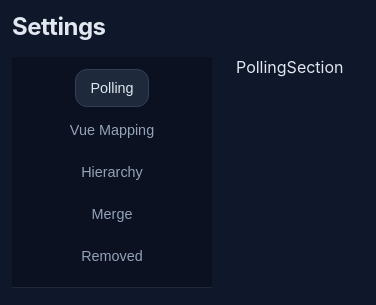
it: SettingsPage tab navigation › clicking a tab switches the visible section
Step 1. Click the tab "Vue Mapping" → (112, 130), box 55,111 -> 169,149
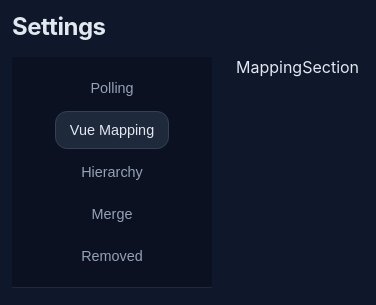
Result: the text "MappingSection" is shown at 236,57 -> 359,77
Result: the text with test id "section-polling" is gone
